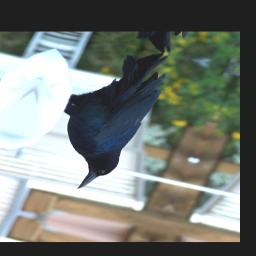Crow: (29, 41, 179, 196)
